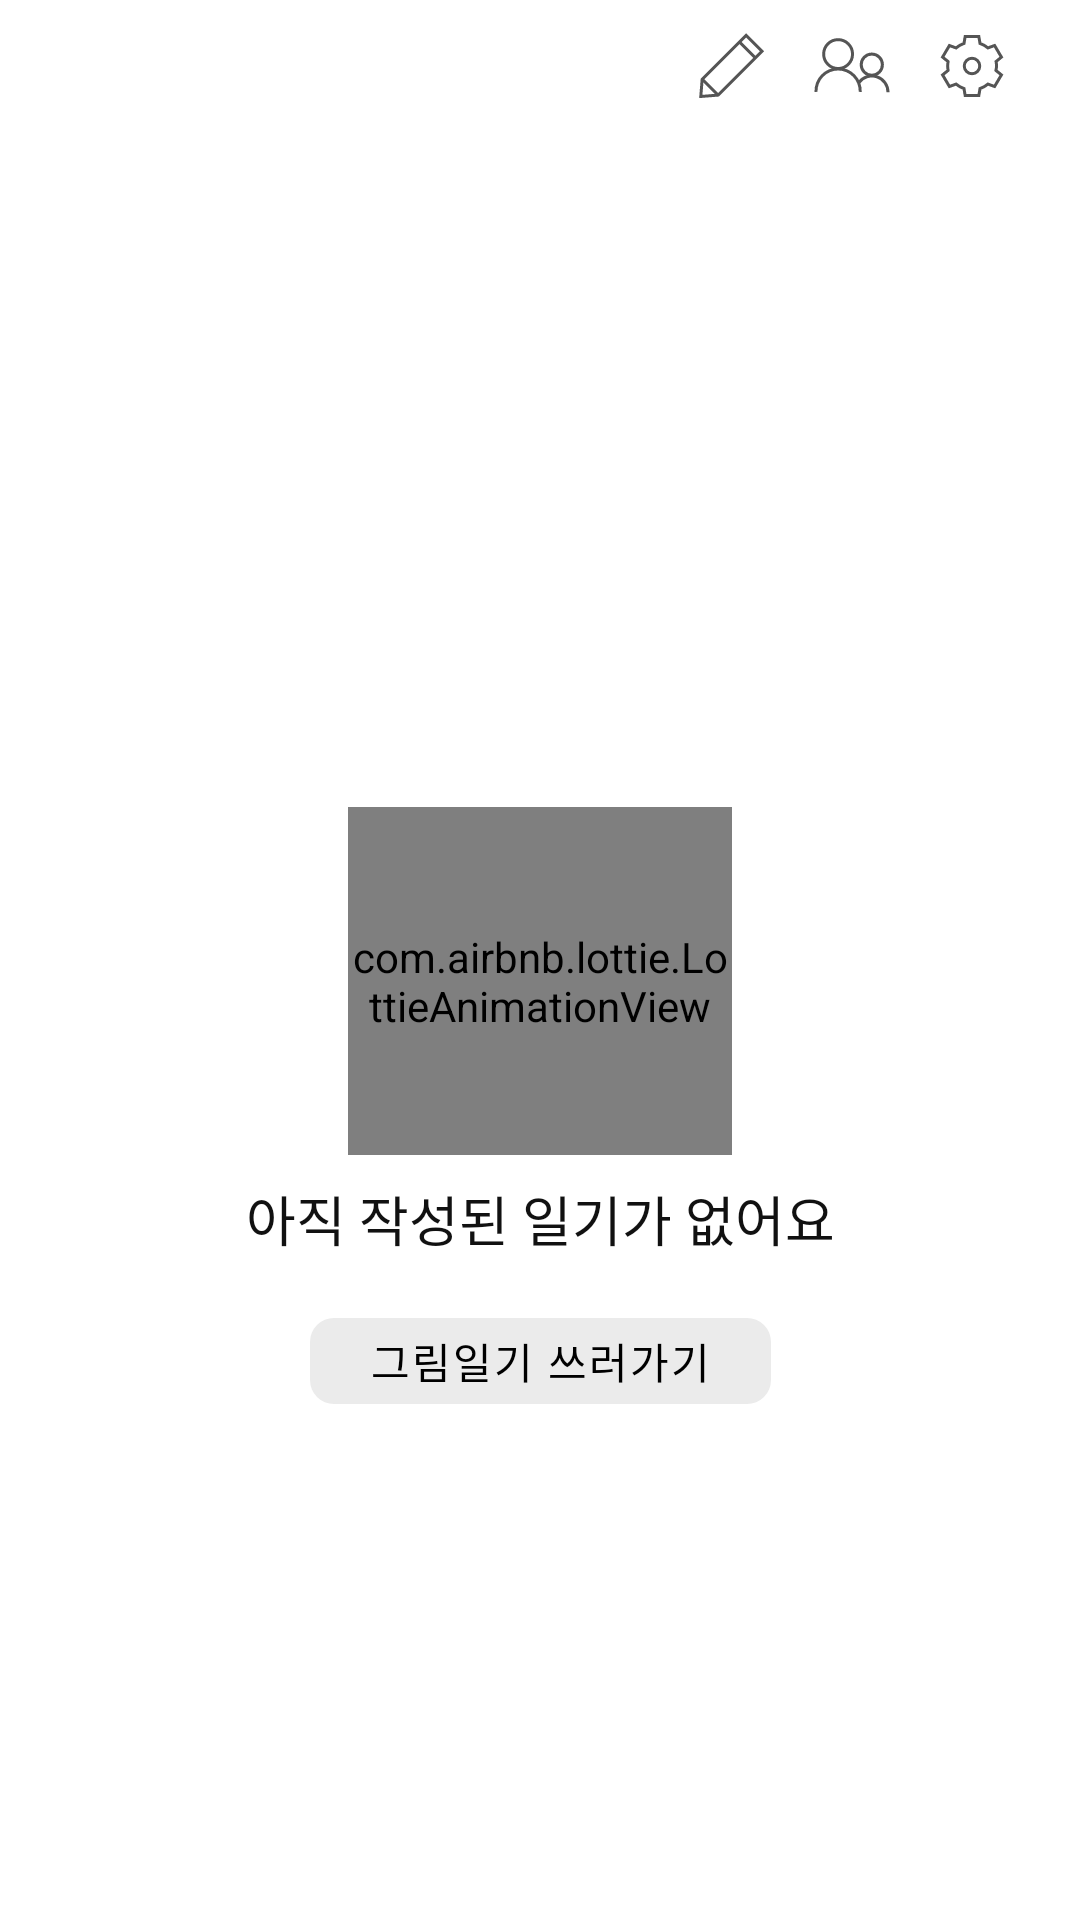

Named icons in this screenshot (1080 × 1920) and their bounding boxes, (x1, y1, x2, y2):
drawing: (699, 33, 764, 98)
people: (814, 38, 890, 93)
setting: (940, 35, 1004, 97)
